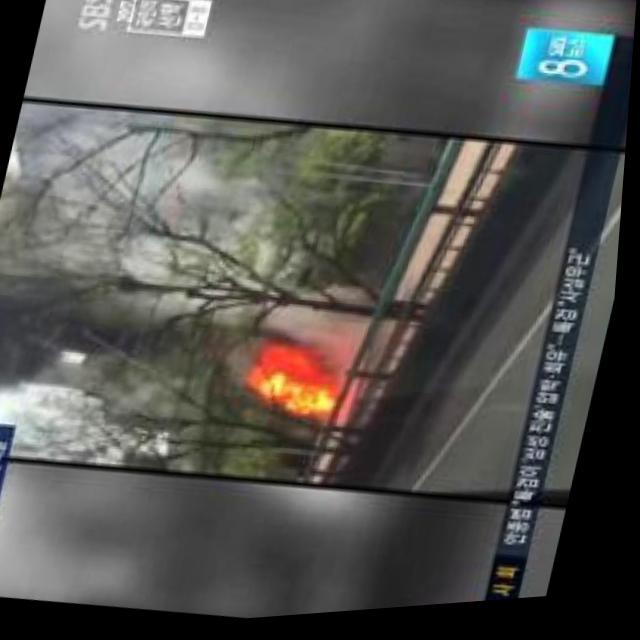Fire: (243, 336, 366, 436)
